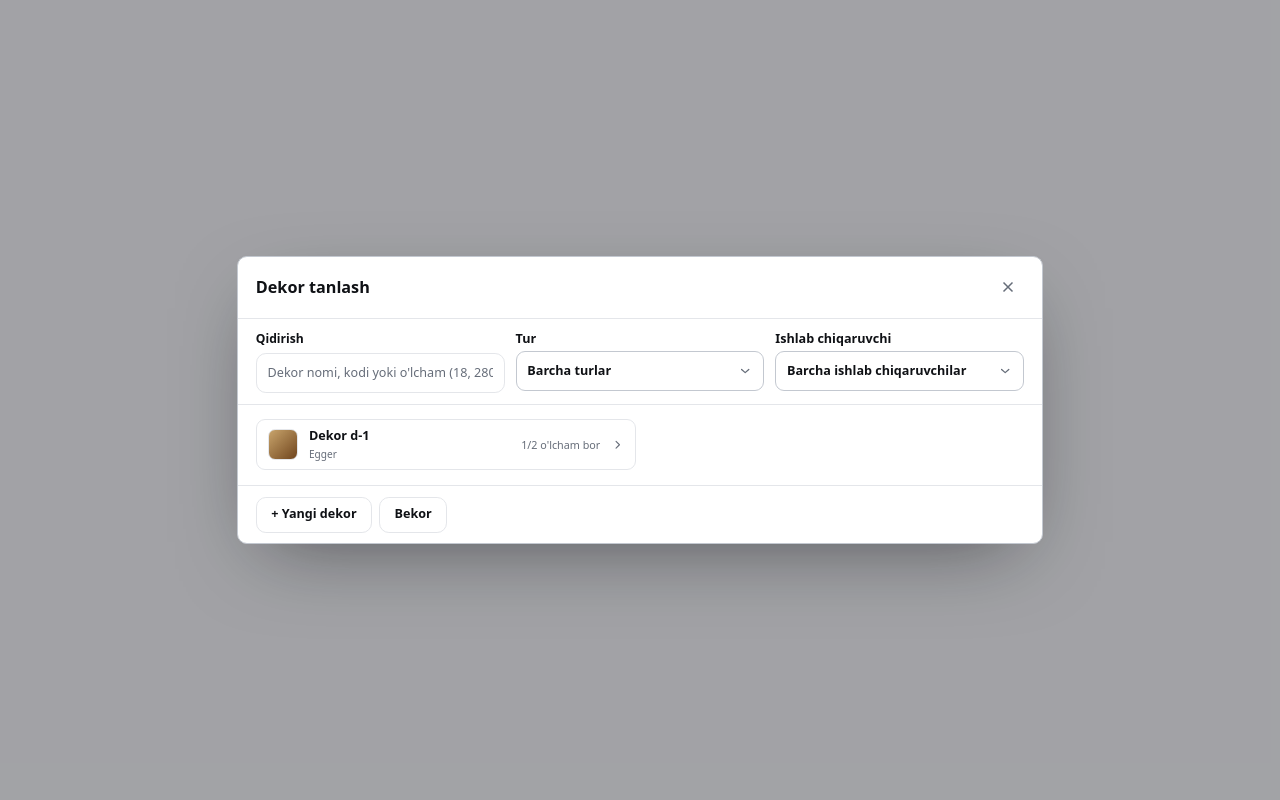
Test: BranchMaterialAttachSheet — «+ Boshqa o‘lcham», merged in silence › says «Sizda bor» on a row the branch already carries, and posts nothing
Click the button "Dekor d-1 Egger 1/2 o'lcham bor".
click(283, 445)  # box left=256, top=419, right=636, bottom=470
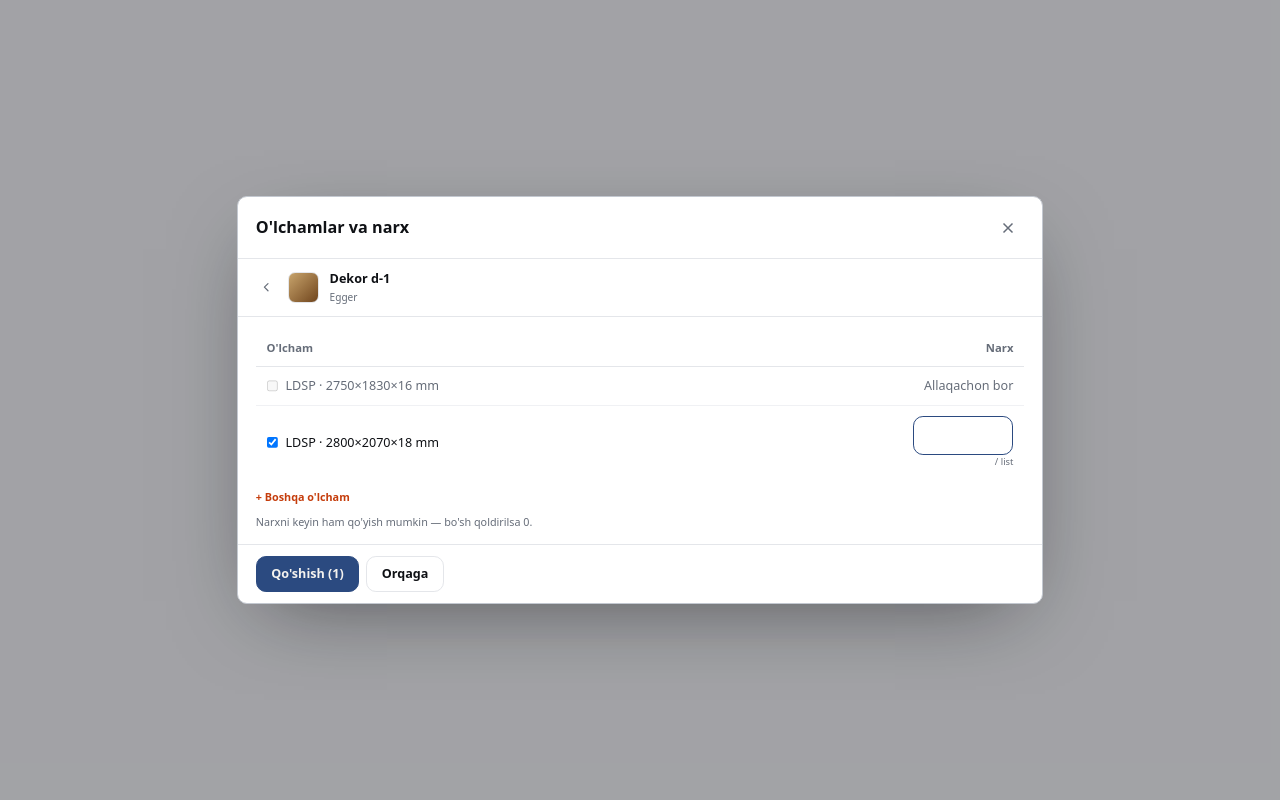
Click the button "+ Boshqa o'lcham".
click(303, 497)  # box left=256, top=490, right=350, bottom=505
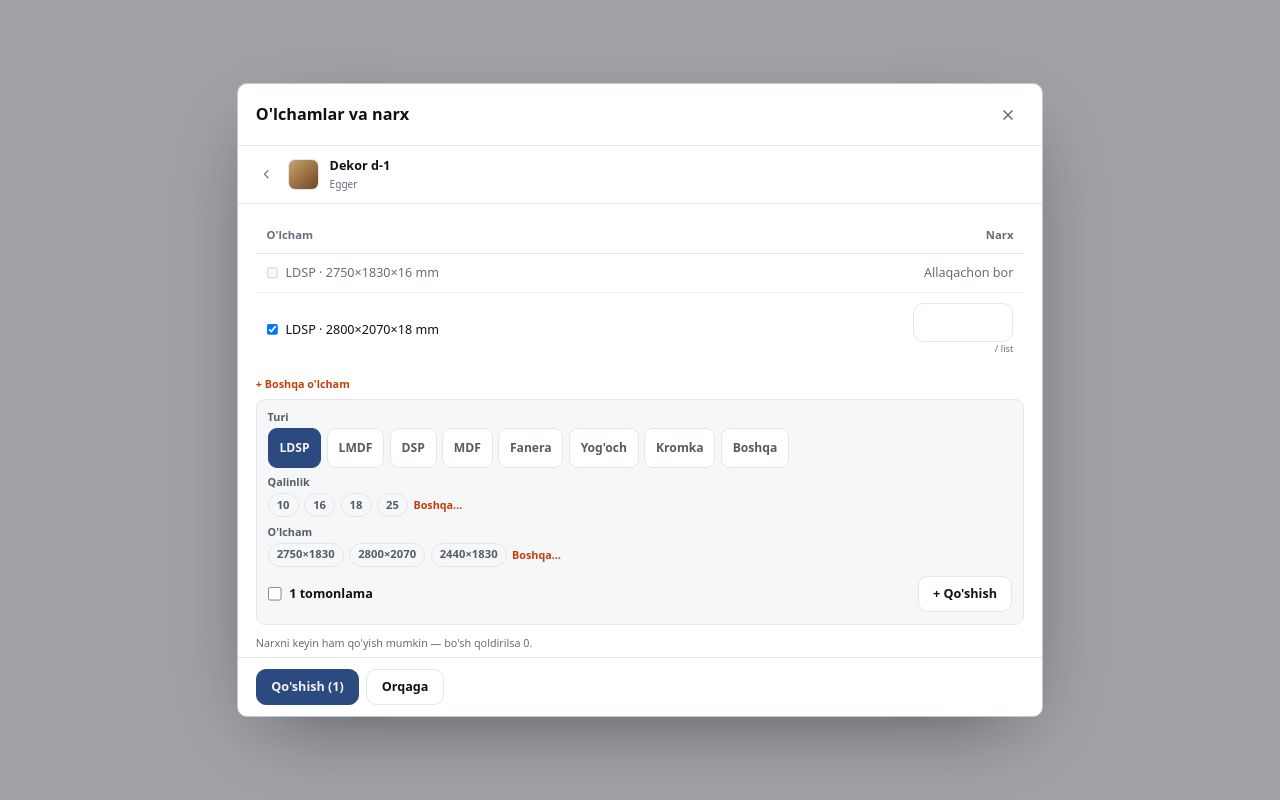
Click the button with class "mp-chip" showing "16".
click(320, 505)  # box left=304, top=493, right=335, bottom=518
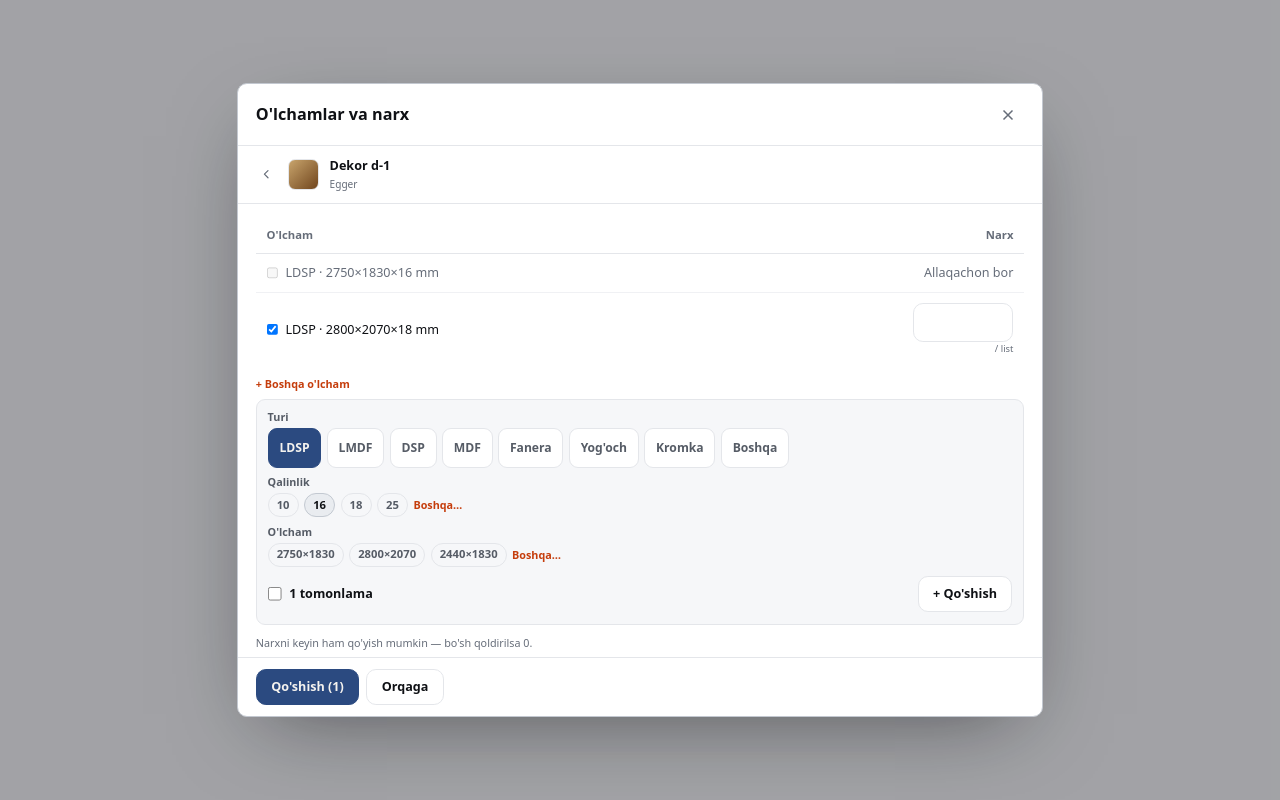
Click the button with class "mp-chip" showing "2750×1830".
click(306, 555)  # box left=268, top=543, right=344, bottom=567
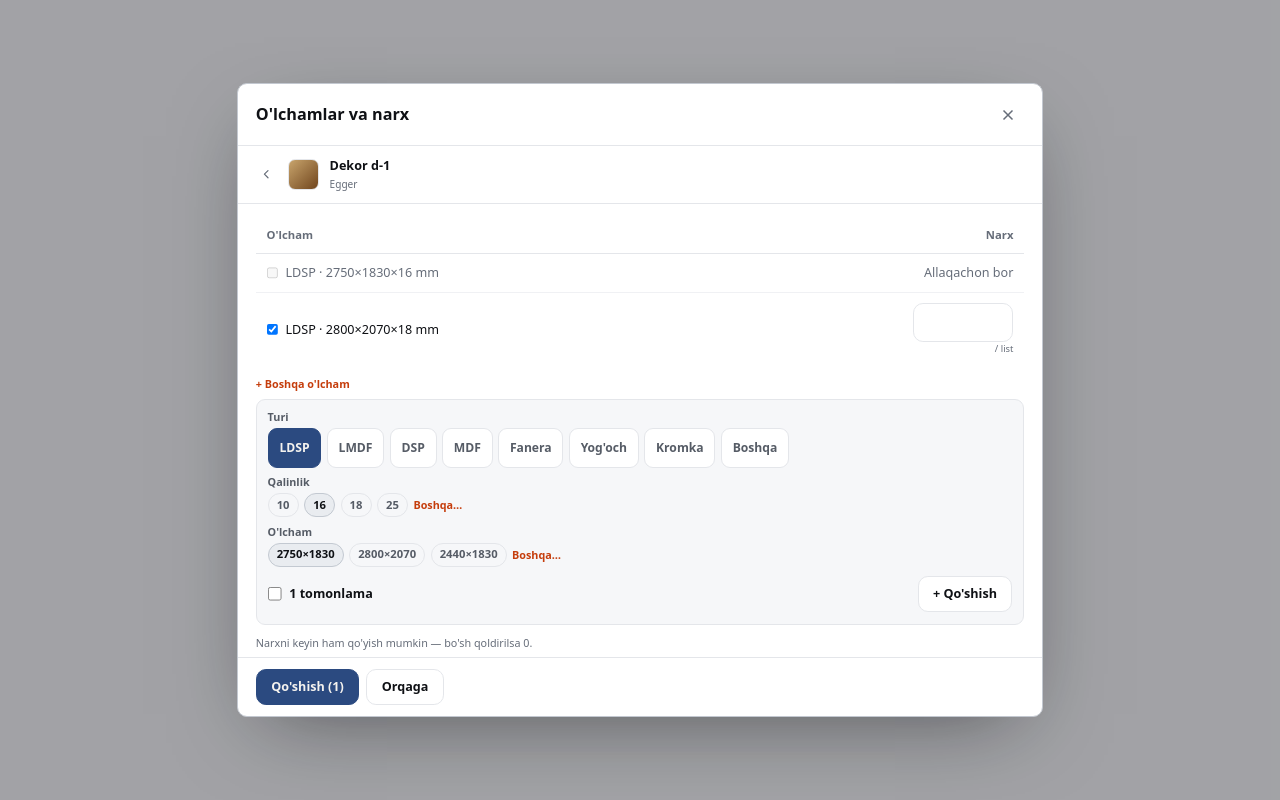
Click the button "+ Qo'shish".
click(965, 594)  # box left=918, top=576, right=1012, bottom=612
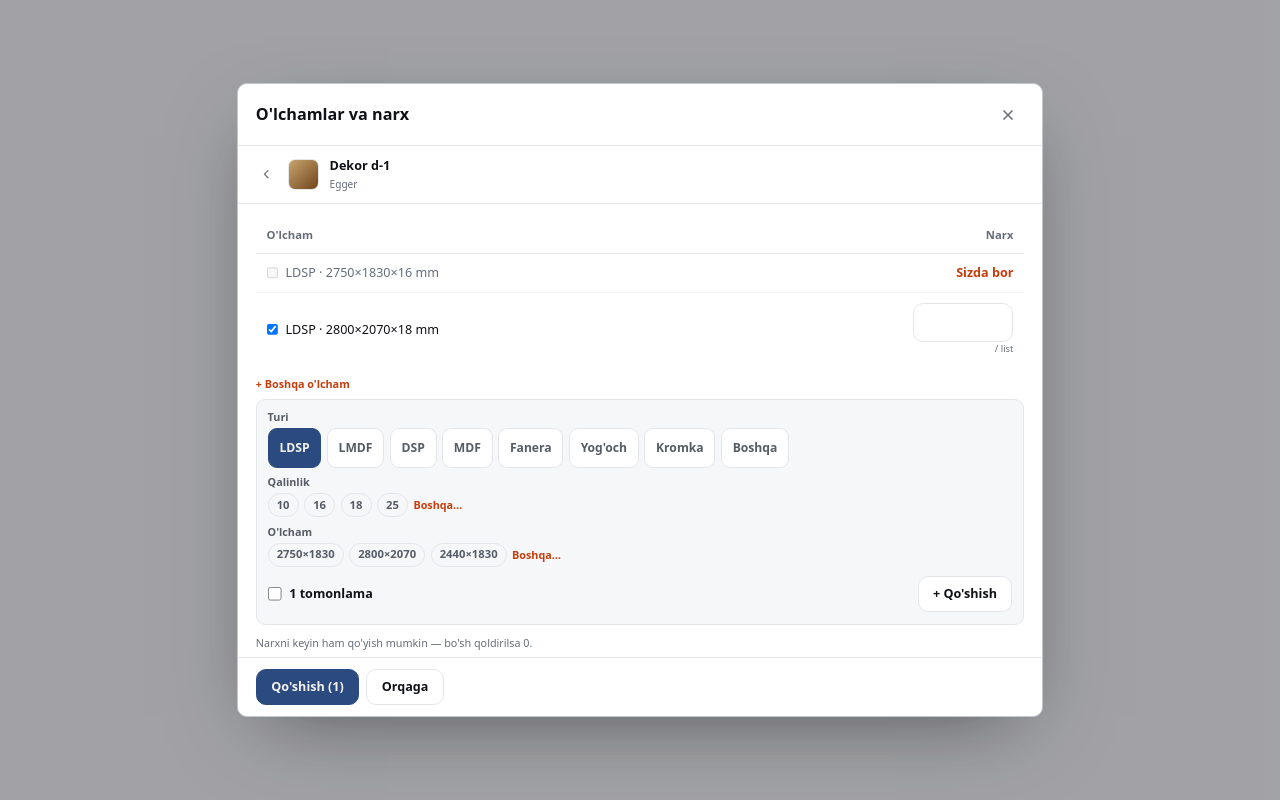
expect the button "+ Qo'shish" is shown: met, box left=918, top=576, right=1012, bottom=612
expect the text "Sizda bor" is shown: met, box left=956, top=264, right=1013, bottom=281
expect the text "Allaqachon bor" is gone: met
